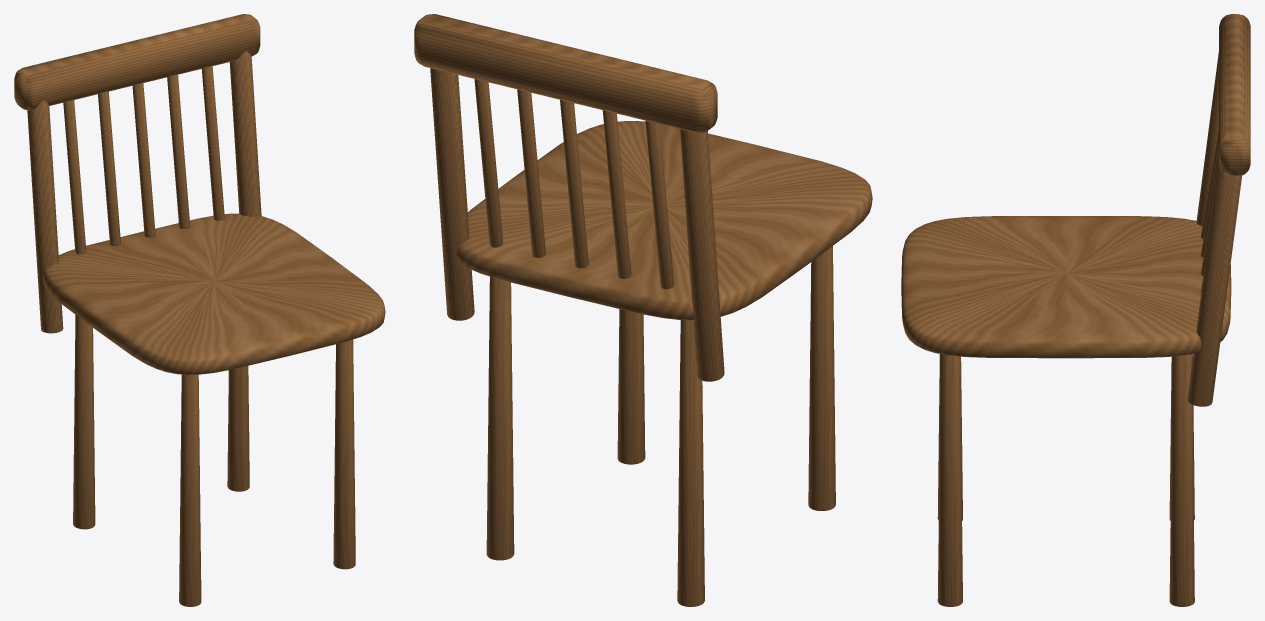
File: dining-chair.glb
The picture shows the model from 3 angles, left to right: view 1: azimuth 30°, elevation 25°; view 2: azimuth 150°, elevation 25°; view 3: azimuth 270°, elevation 25°; orthographic projection. The views are drawn at different scales.
Visible parts, largest first — view 1: dining-chair-mesh; view 2: dining-chair-mesh; view 3: dining-chair-mesh.
Boxes of the visible parts, bbox=[...] form: dining-chair-mesh: bbox=[14, 14, 385, 606]; dining-chair-mesh: bbox=[414, 14, 872, 606]; dining-chair-mesh: bbox=[901, 14, 1250, 606].
Size of the model in its own units: 0.45 by 0.8 by 0.52.
1 material, 1 textured.
